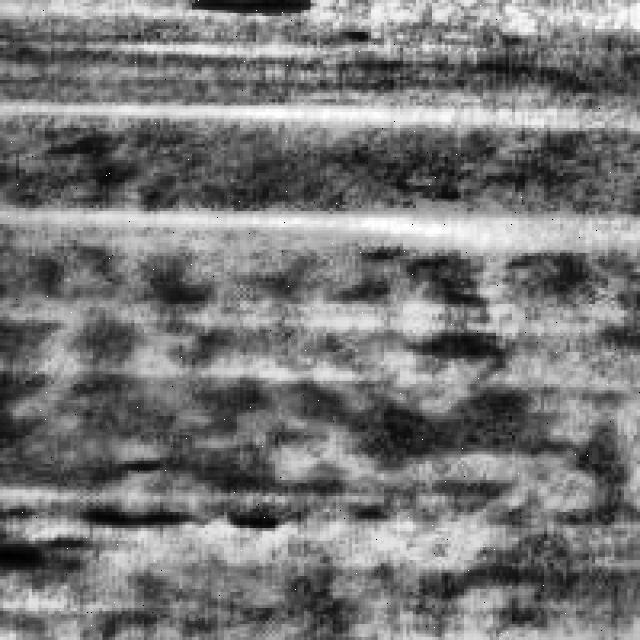Inclusion: (74, 195, 612, 250), (28, 86, 506, 134)
Patches: (0, 499, 179, 563)
